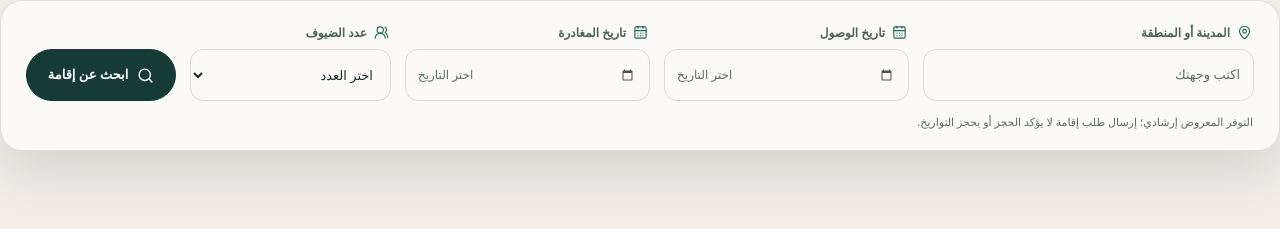
it: StaySearchForm › announces the first missing field and focuses it
Click the button "ابحث عن إقامة" at (101, 75), box x1=26 y1=49 x2=176 y2=101
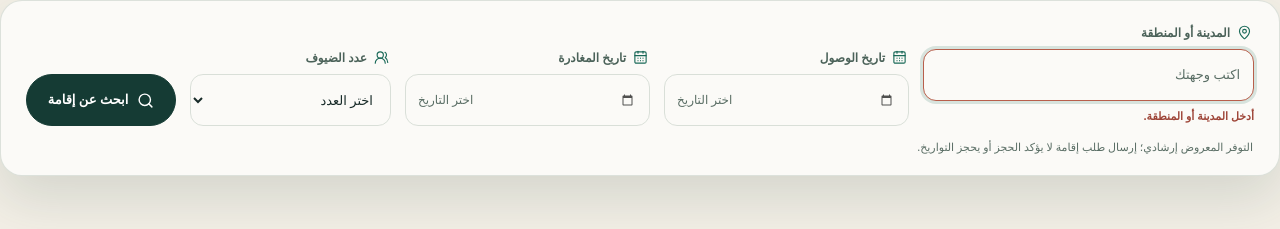
Now the message reads "أدخل المدينة أو المنطقة.", box x1=1143 y1=108 x2=1254 y2=123
